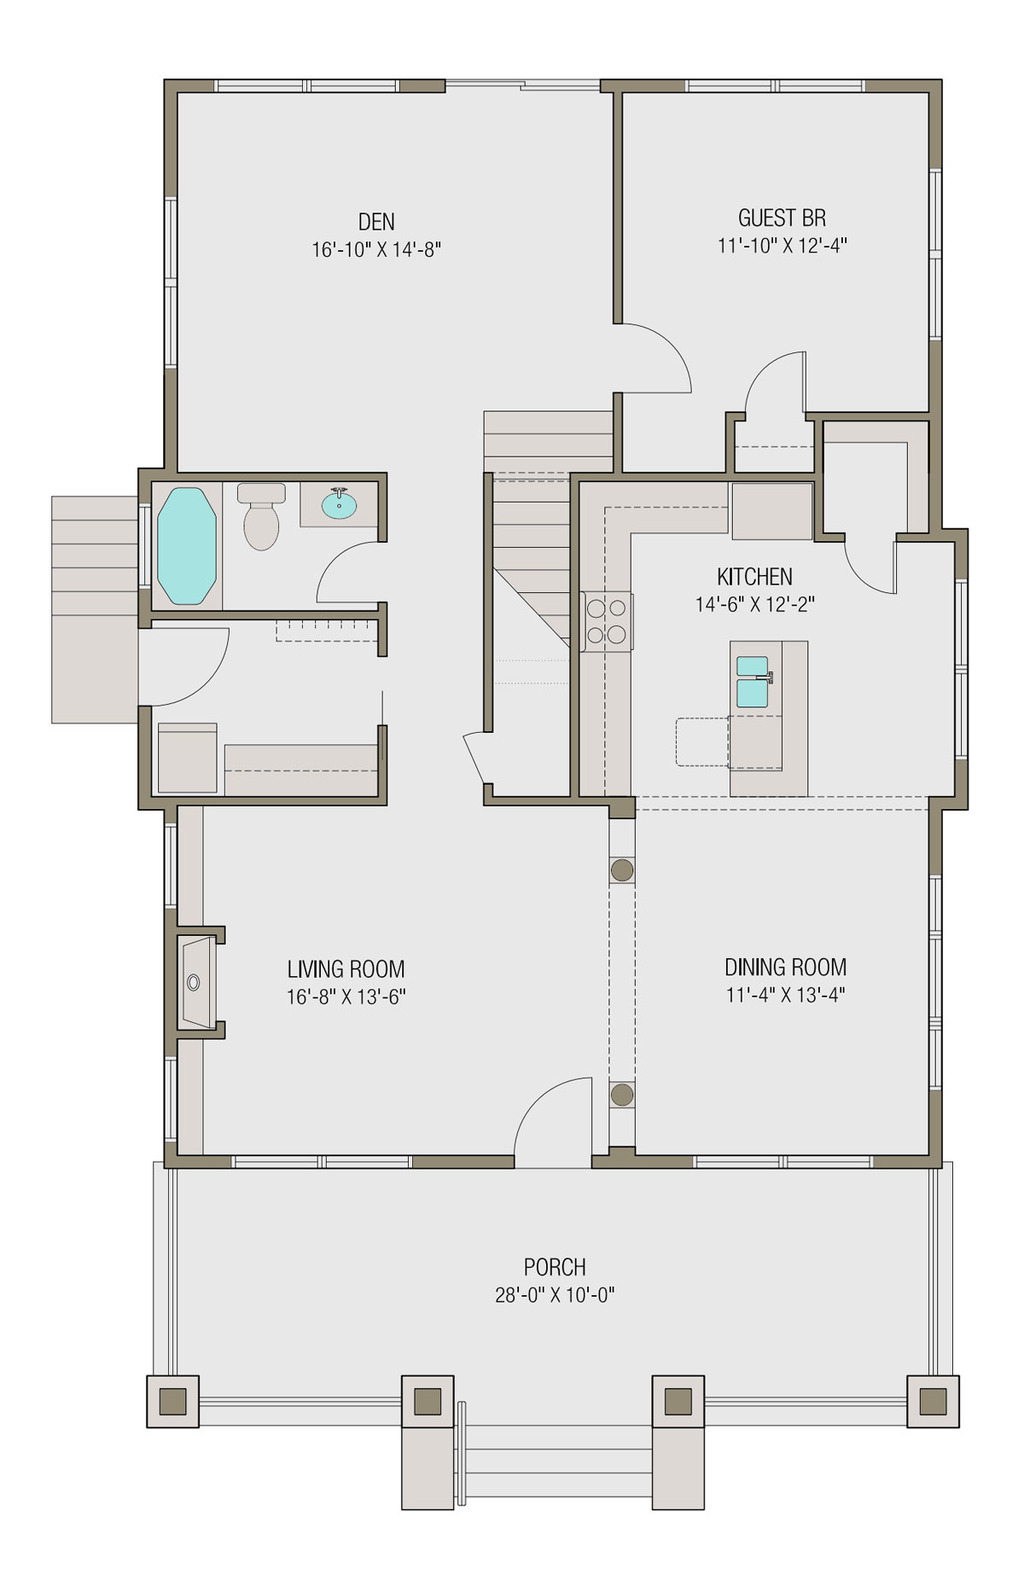door: (137, 620, 232, 701), (512, 1073, 594, 1169), (300, 542, 388, 608), (610, 317, 685, 393), (833, 540, 903, 603), (747, 347, 812, 408)
large_sink: (236, 488, 288, 564)
small_sink: (298, 486, 383, 530)
stairs: (483, 410, 608, 727)
tub: (152, 478, 222, 608)
window: (160, 200, 186, 356), (957, 585, 972, 754), (220, 83, 383, 98), (695, 83, 864, 91)
